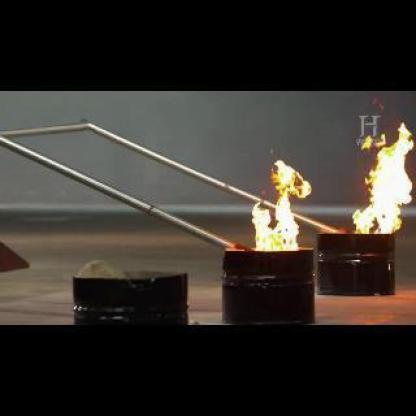fire: (344, 112, 416, 236), (234, 155, 309, 251)
